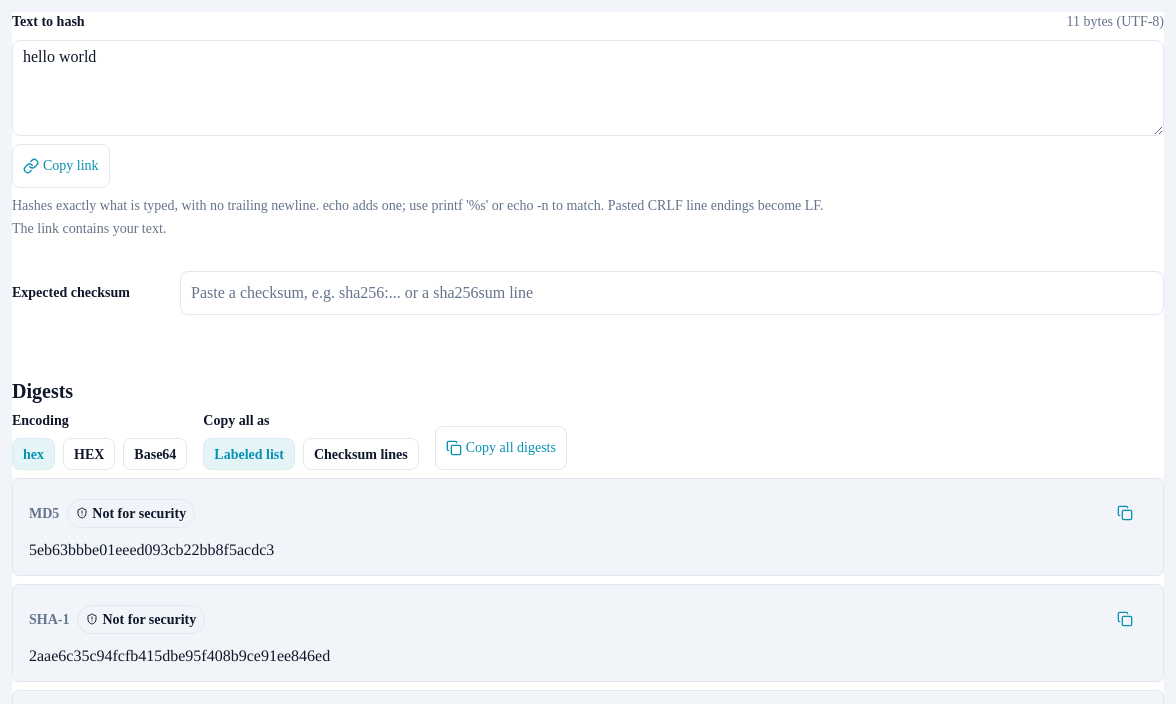
Test case: HashTool verify box (OUT-04) › OUT-04: a value matching nothing shows a neutral no-match, never destructive
This screenshot has width=1176, height=704.
Type "deadbeef" into the field with test id "hash-verify" at (672, 293), box [180, 271, 1164, 315]
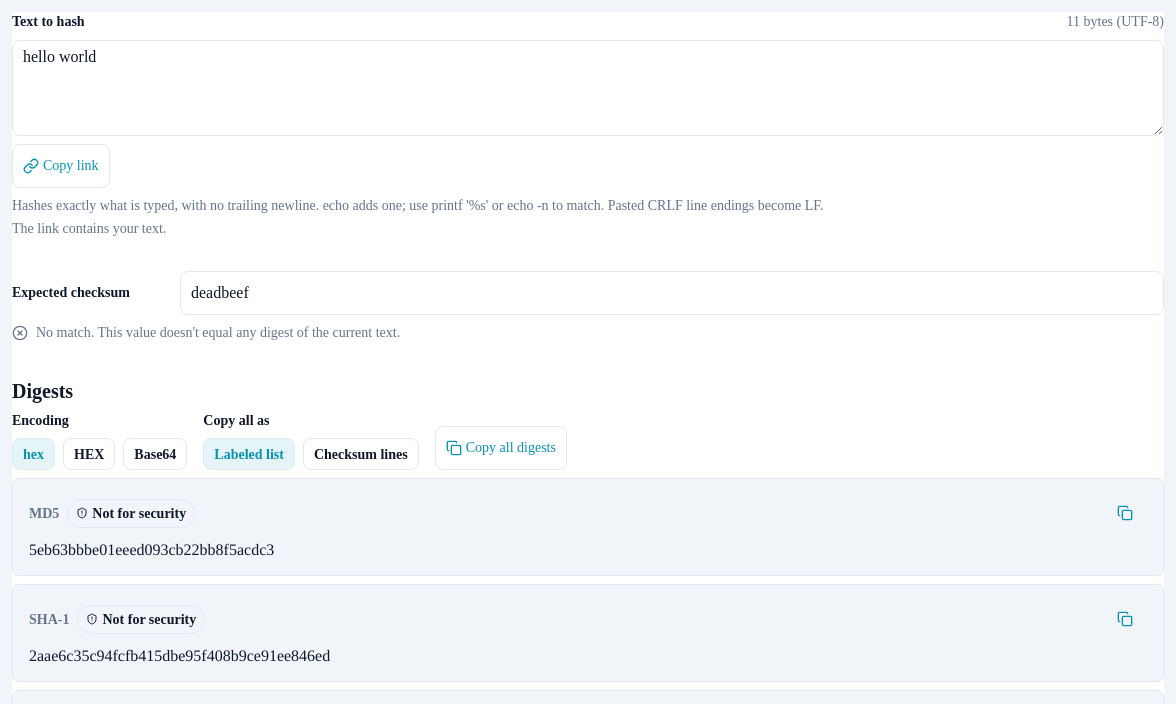
Result: the element with test id "hash-verify-result" reads "No match. This value doesn't equal any digest of the current text." at [36, 325, 400, 340]
